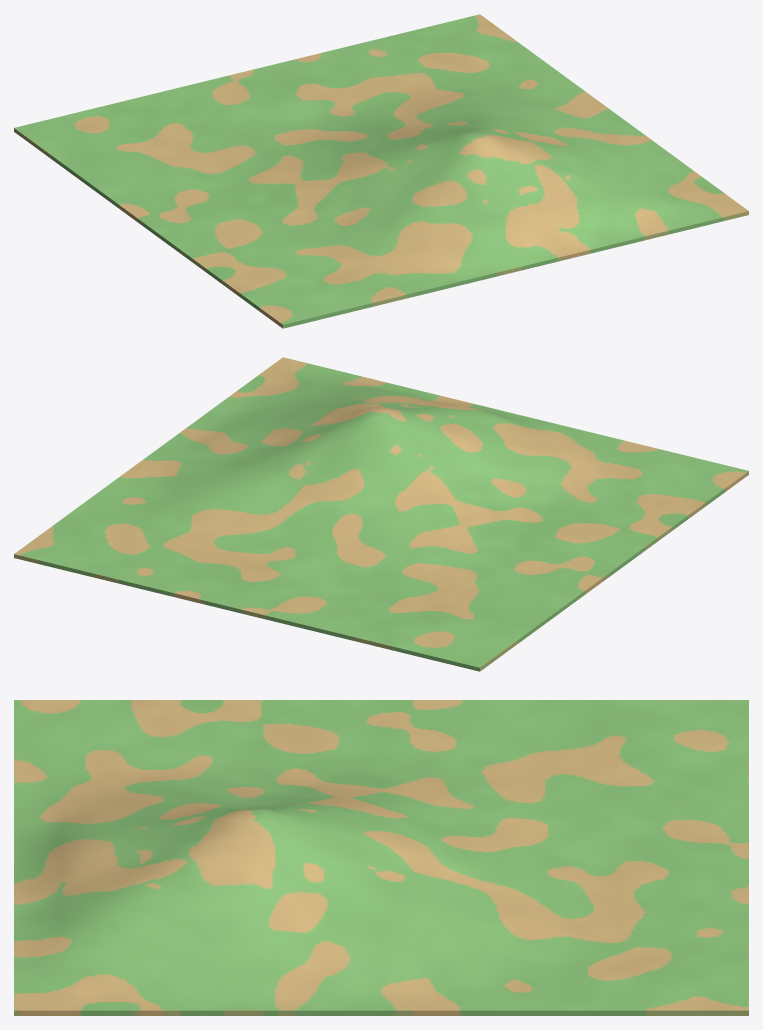
Rendered from Grass_Hills_07.obj.
The picture shows the model from 3 angles, top to bottom: view 1: azimuth 30°, elevation 25°; view 2: azimuth 150°, elevation 25°; view 3: azimuth 270°, elevation 25°; orthographic projection. The views are drawn at different scales.
Size of the model in its own units: 10 by 1.2 by 10.
1 material, 1 textured.
